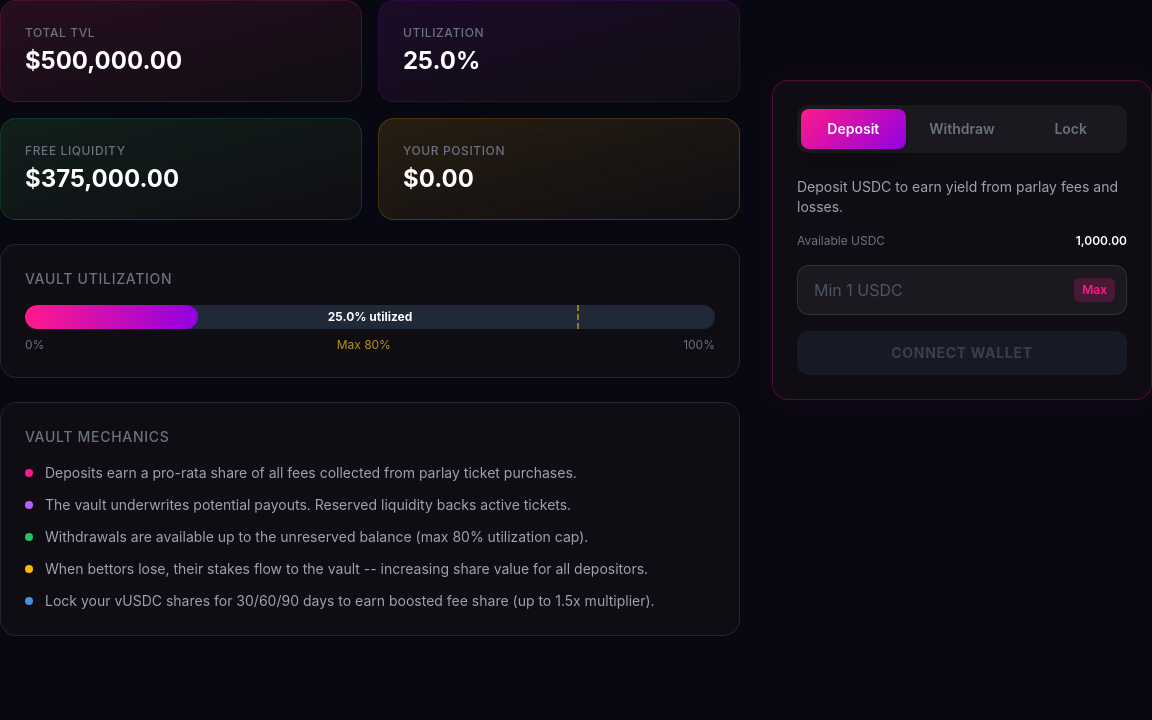
Test: VaultDashboard › switches to lock tab and shows tier selector
Step 1. Click the button "Lock" → (1071, 129), box x1=1018 y1=109 x2=1123 y2=149
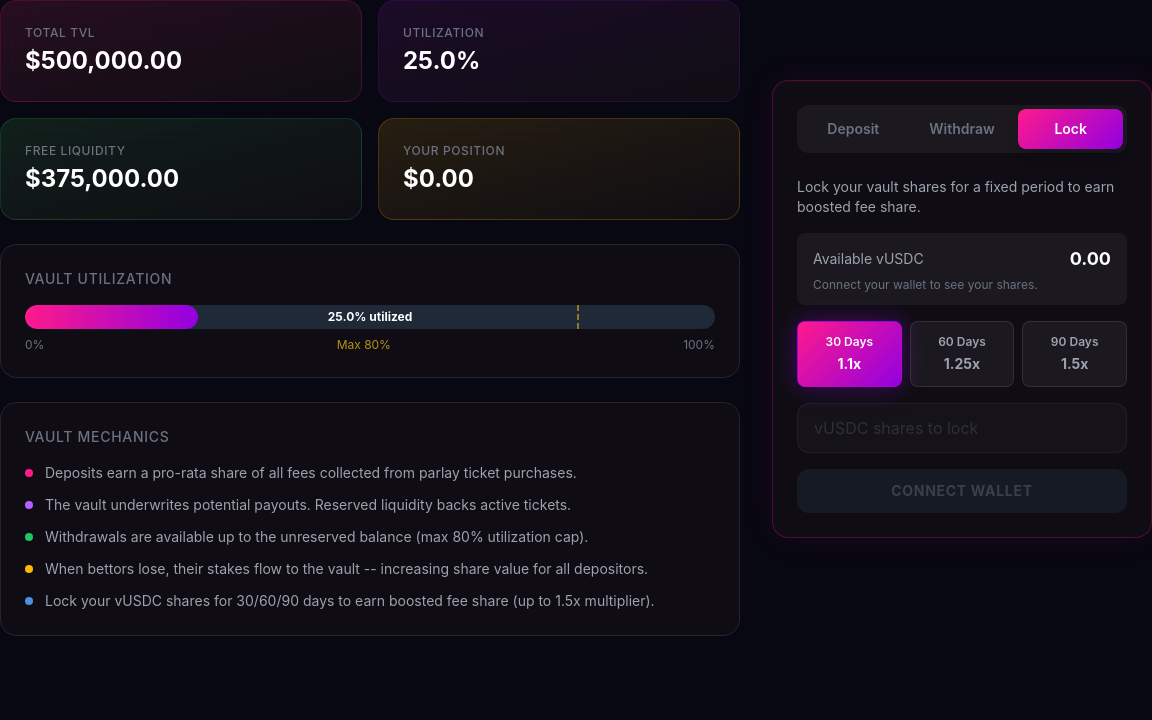
Check: the text "Lock your vault shares" is shown, box x1=797 y1=178 x2=1114 y2=215
Check: the text "1.1x" is shown, box x1=838 y1=355 x2=861 y2=372
Check: the text "1.25x" is shown, box x1=944 y1=355 x2=980 y2=372
